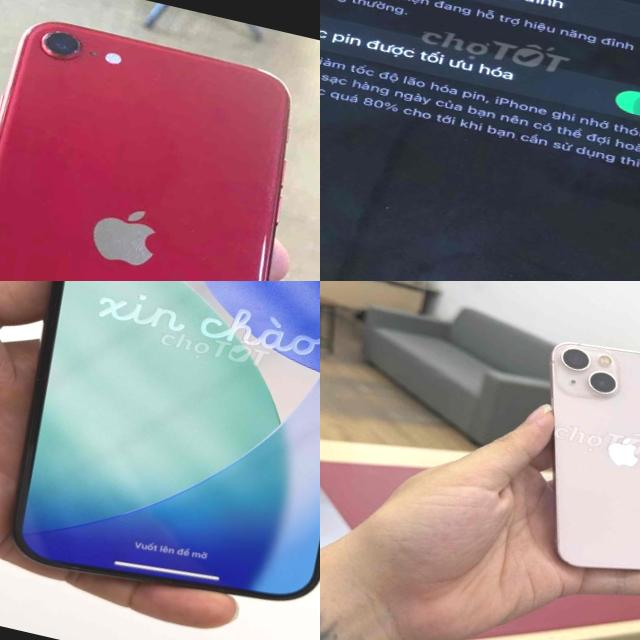gen_12_13: (499, 330, 640, 597)
gen_15: (0, 281, 320, 629)
gen_7_8: (0, 0, 320, 281)
gen_x_xs: (320, 0, 640, 281)
scratch: (32, 16, 92, 59), (245, 229, 276, 281)
